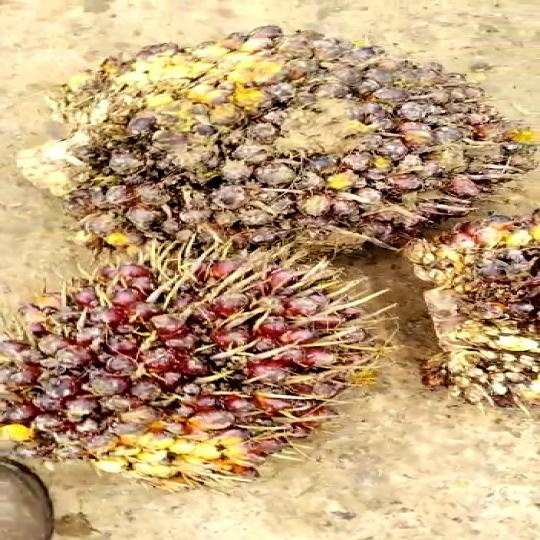kurang masak: (60, 33, 535, 256), (0, 258, 374, 511)
